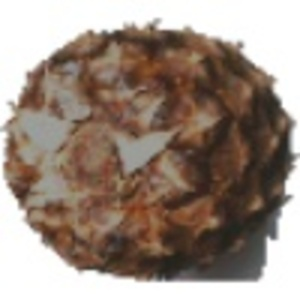abacaxi: (5, 15, 291, 275)
